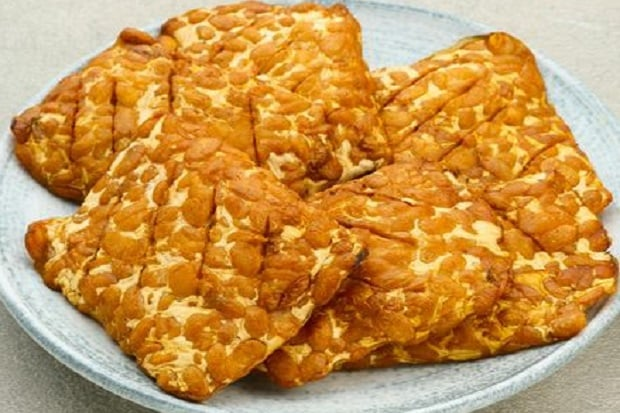kacang_legume: (82, 67, 531, 317)
